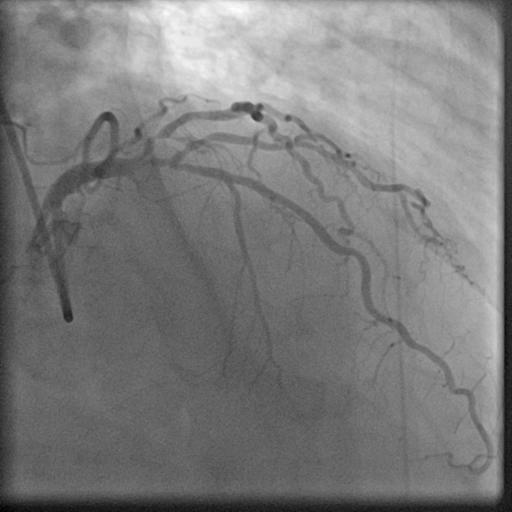Stenosis: (144, 129, 169, 149)
